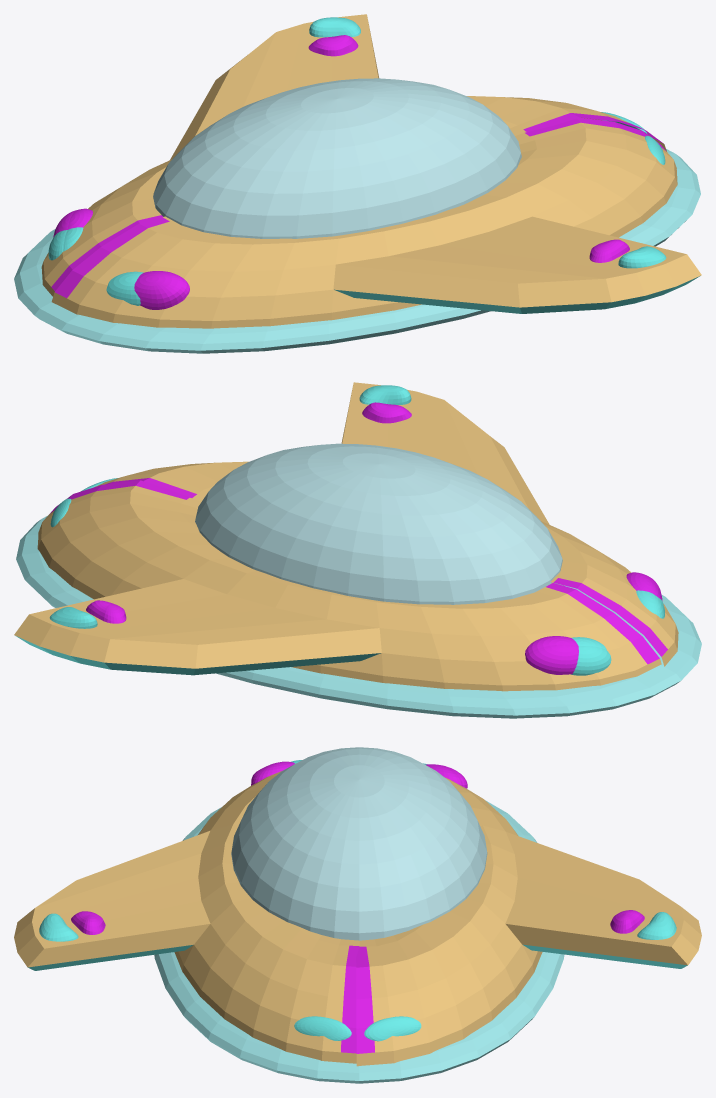
File: ship.glb
3 views of the same model, one above another, from view 1: azimuth 30°, elevation 25°; view 2: azimuth 150°, elevation 25°; view 3: azimuth 270°, elevation 25° (orthographic). The views are drawn at different scales.
Parts seen in each view (by area): view 1: Sphere.004, Sphere.001, Cube; view 2: Sphere.004, Sphere.001, Cube; view 3: Sphere.004, Sphere.001, Cube.
Boxes of the visible parts, <box> form: Sphere.004: <box>41,14,701,328</box>; Sphere.001: <box>153,78,521,238</box>; Cube: <box>14,149,700,353</box>; Sphere.004: <box>14,382,678,691</box>; Sphere.001: <box>195,443,563,604</box>; Cube: <box>16,515,701,718</box>; Sphere.004: <box>14,760,701,1066</box>; Sphere.001: <box>231,747,487,940</box>; Cube: <box>154,800,564,1083</box>.
Size of the model in its own units: 5.14 by 1.29 by 4.87.
